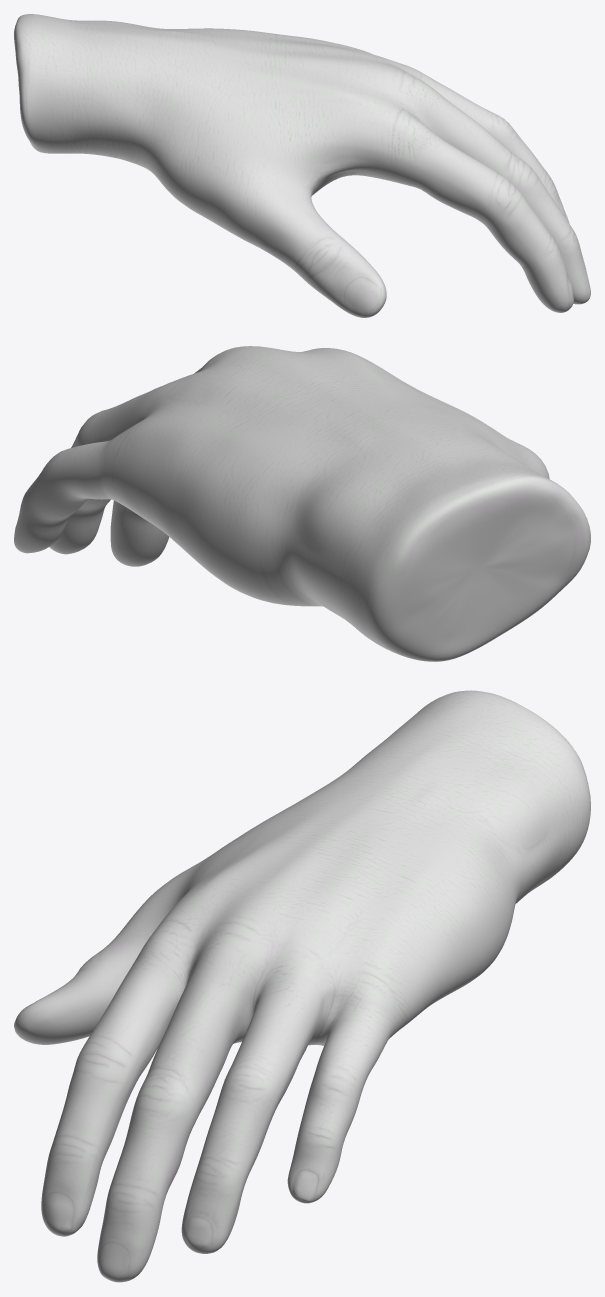
Rendered from lefthands.fbx.
3 renders of one model, top to bottom at view 1: azimuth 30°, elevation 25°; view 2: azimuth 150°, elevation 25°; view 3: azimuth 270°, elevation 25°, orthographic. The views are drawn at different scales.
Parts seen in each view (by area): view 1: node_id92; view 2: node_id92; view 3: node_id92.
Boxes of the visible parts, x1,y1,x2,y2 form: node_id92: (14, 14, 590, 317); node_id92: (14, 346, 590, 661); node_id92: (14, 690, 590, 1282).
Size of the model in its own units: 0.4511 by 0.2472 by 0.3843.
1 material, 1 textured.
